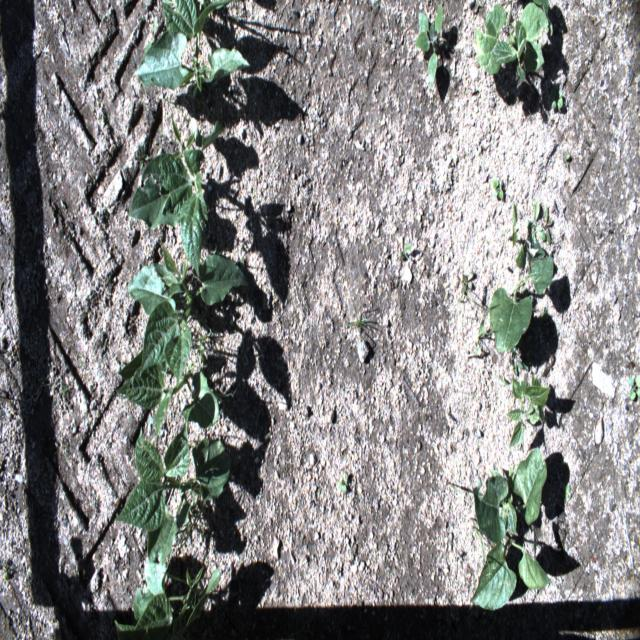crop: (126, 239, 250, 389), (114, 414, 231, 563), (128, 113, 223, 280), (469, 448, 552, 610), (132, 0, 251, 91), (114, 342, 219, 444), (115, 551, 222, 640), (490, 238, 553, 354), (474, 0, 552, 79), (506, 375, 550, 449)
weed: (413, 2, 443, 92), (526, 201, 546, 242), (628, 373, 640, 401), (544, 207, 552, 245), (550, 88, 563, 110), (492, 180, 503, 200), (336, 473, 347, 492)
